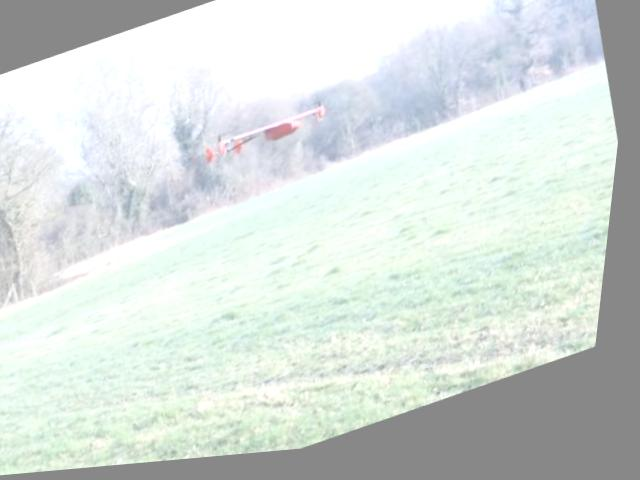uav: (202, 105, 334, 172)
